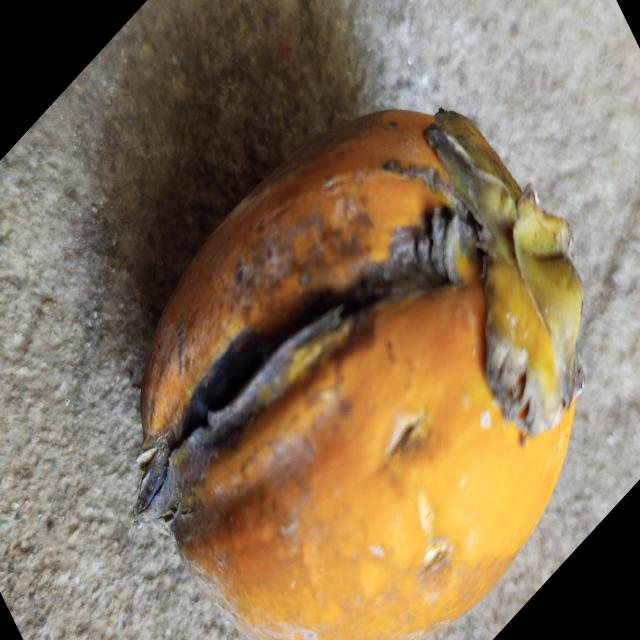damaged: (134, 108, 585, 640)
